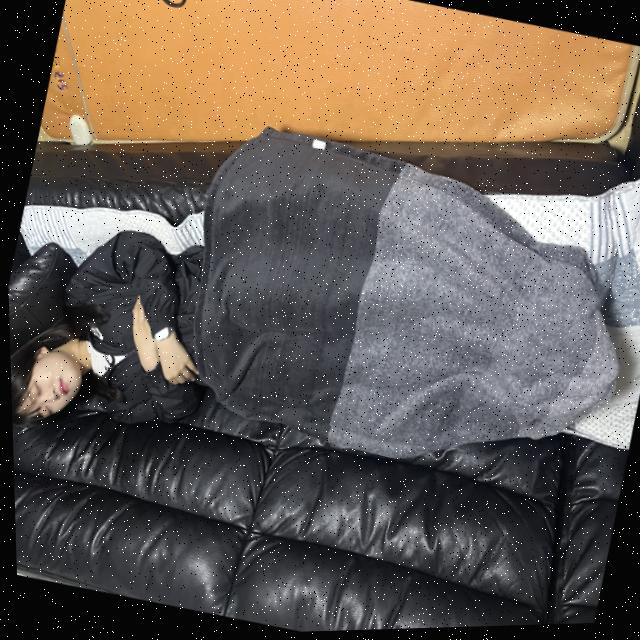sleeping-person: (3, 95, 640, 565)
